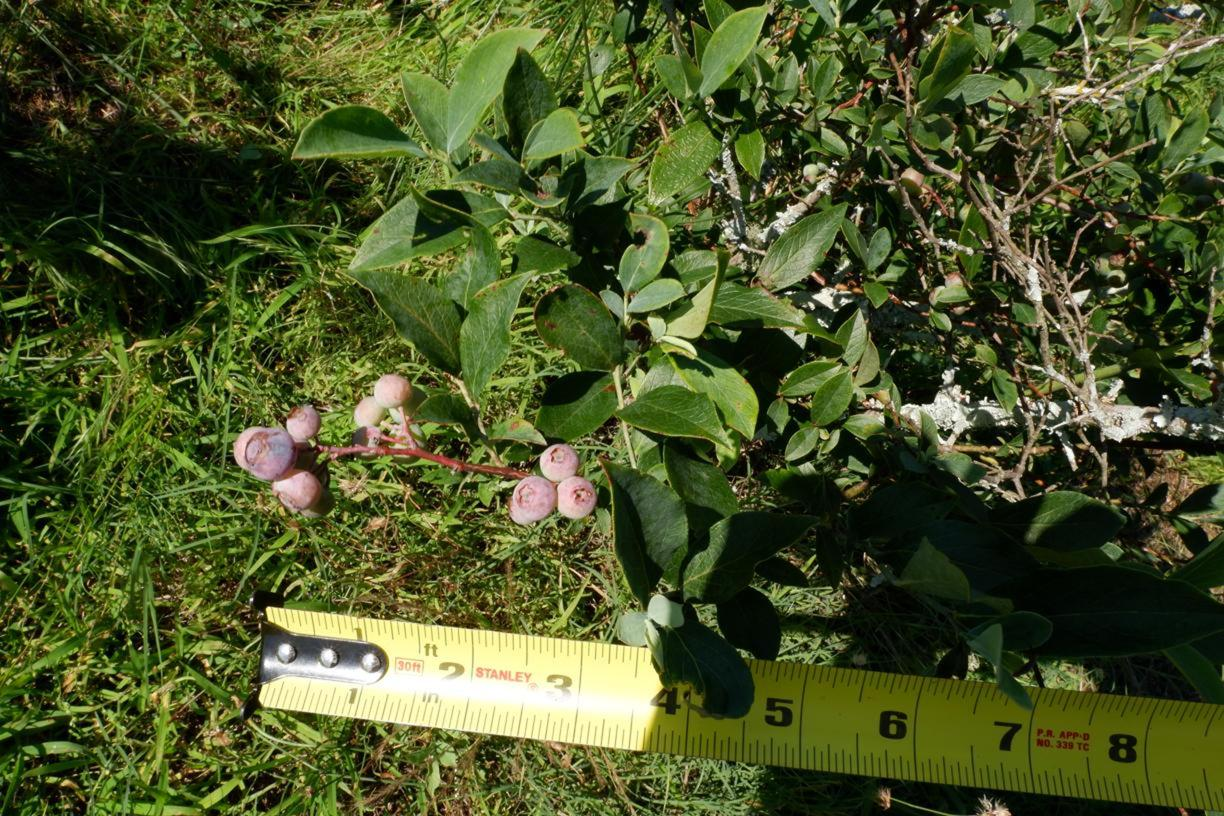Immature: (271, 469, 322, 510), (513, 475, 556, 522), (556, 476, 597, 519), (387, 423, 426, 464), (233, 426, 268, 471), (387, 387, 427, 424), (540, 444, 578, 481), (374, 375, 413, 409), (350, 426, 384, 460), (300, 488, 336, 519), (287, 406, 321, 438), (353, 396, 385, 427), (291, 436, 314, 470), (509, 499, 535, 526)
Mature: (244, 429, 298, 481)
